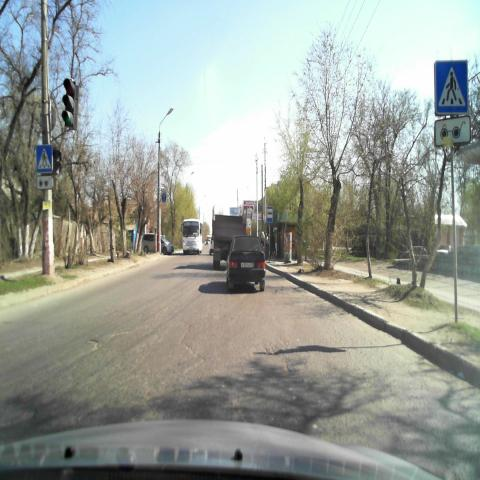8_15: (35, 175, 52, 189)
